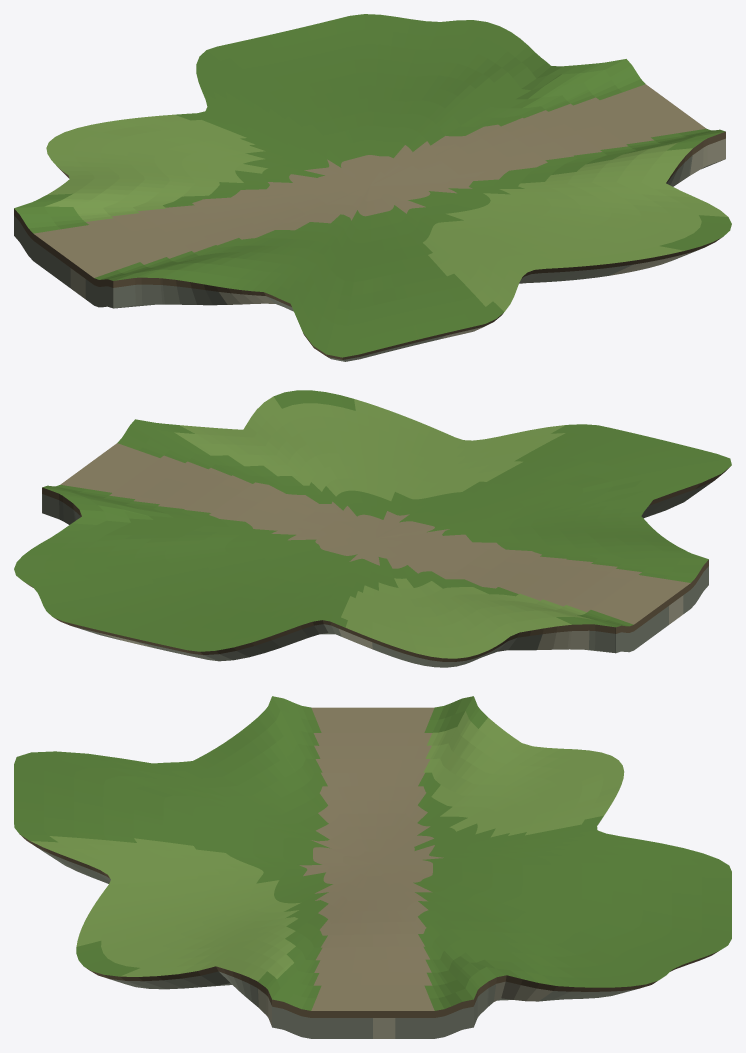
Rendered from wetland_pools_structure.fbx.
3 renders of one model, top to bottom at view 1: azimuth 30°, elevation 25°; view 2: azimuth 150°, elevation 25°; view 3: azimuth 270°, elevation 25°, orthographic. The views are drawn at different scales.
Visible parts, largest first — view 1: chunk_wetland_pools; view 2: chunk_wetland_pools; view 3: chunk_wetland_pools.
Boxes of the visible parts, bbox=[...] form: chunk_wetland_pools: bbox=[14, 14, 731, 361]; chunk_wetland_pools: bbox=[14, 390, 731, 667]; chunk_wetland_pools: bbox=[14, 696, 731, 1038].
Bounding box in the file's own units: 256 × 43.5 × 256.
